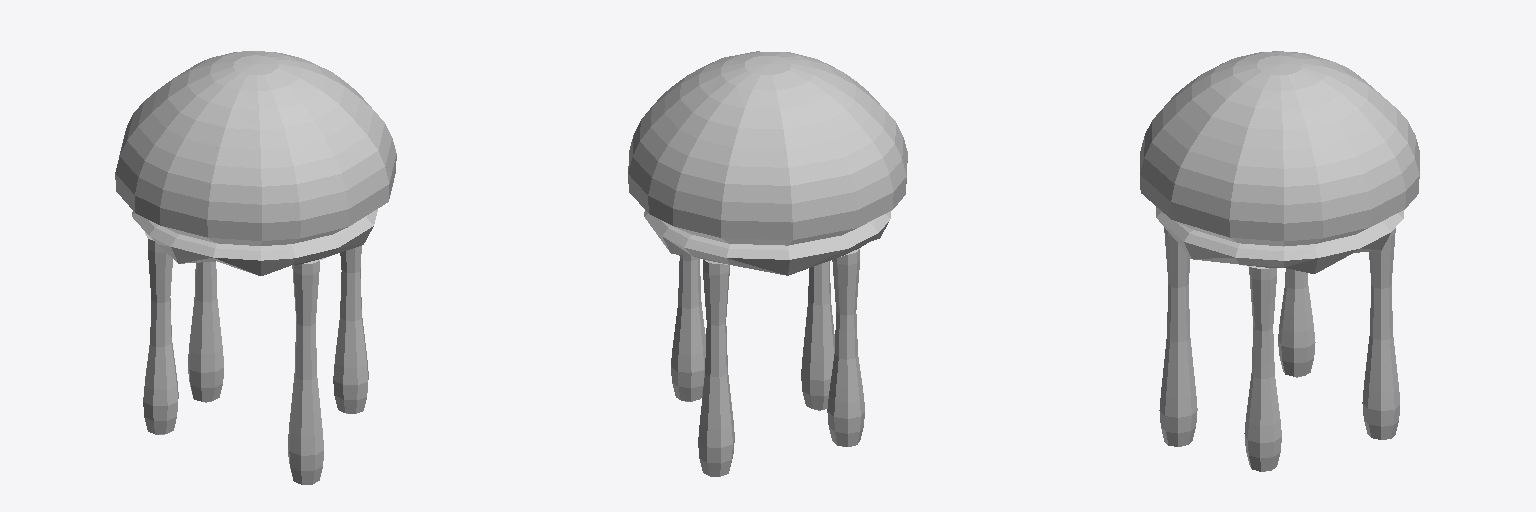
File: medusa.obj
3 renders of one model, left to right at view 1: azimuth 30°, elevation 25°; view 2: azimuth 150°, elevation 25°; view 3: azimuth 270°, elevation 25°, orthographic.
Parts seen in each view (by area): view 1: Sphere; view 2: Sphere; view 3: Sphere.
Part boxes in pixels (left/top/right/bottom): Sphere: left=115, top=51, right=396, bottom=484; Sphere: left=628, top=51, right=907, bottom=476; Sphere: left=1140, top=51, right=1419, bottom=471.
Bounding box in the file's own units: 4.14 × 6.15 × 4.07.